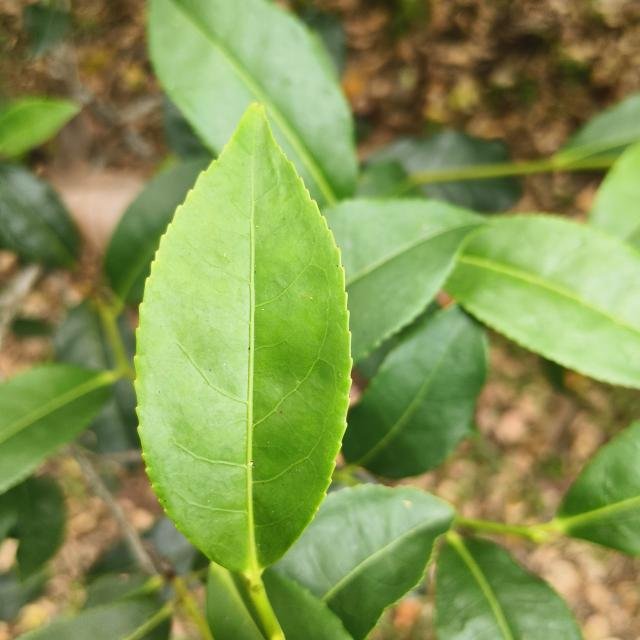Leaf: (135, 104, 352, 573), (148, 0, 357, 205), (445, 214, 640, 388), (272, 484, 454, 640), (324, 199, 485, 364), (342, 304, 488, 479), (104, 154, 212, 305), (436, 530, 582, 640), (0, 363, 118, 494), (554, 420, 640, 555), (0, 162, 81, 268), (0, 474, 66, 578), (16, 595, 161, 640), (263, 569, 353, 640), (373, 130, 510, 173), (0, 97, 81, 157), (206, 562, 268, 640), (418, 176, 521, 212), (140, 616, 171, 640)
